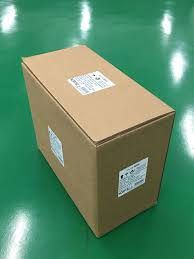undamaged: (21, 46, 175, 239)
